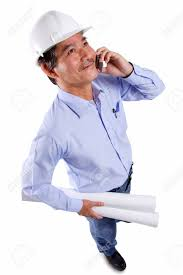Person_wearing_helmet: (31, 5, 98, 67)
